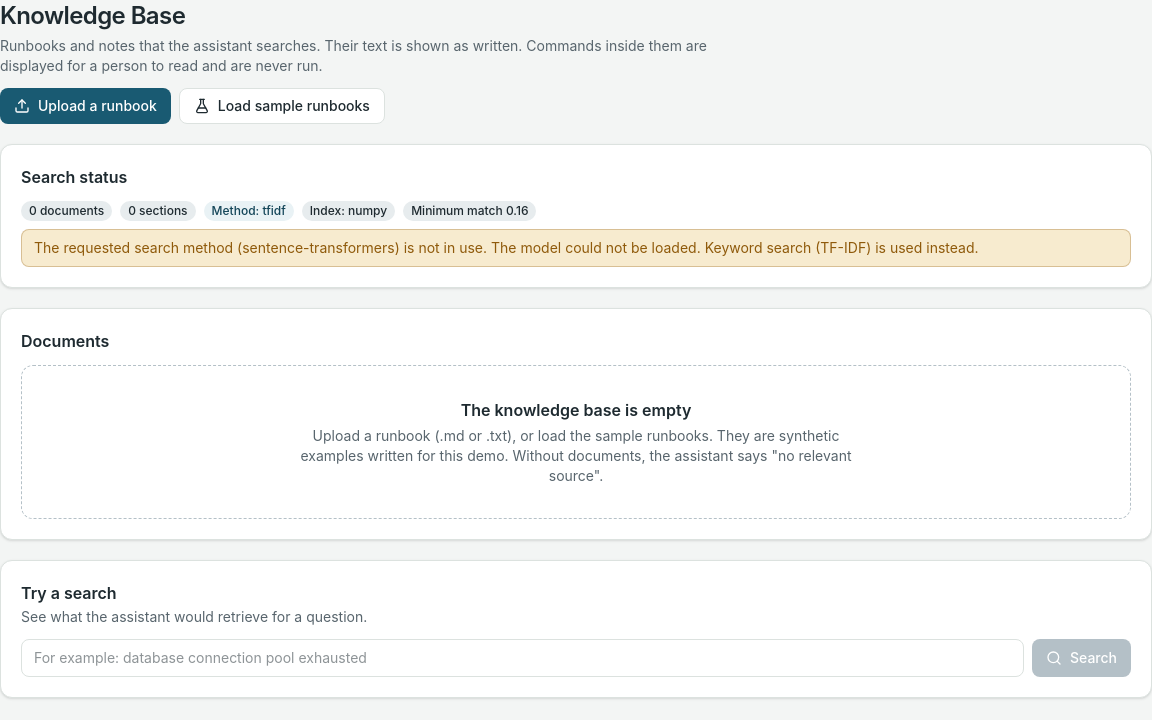
it: Knowledge Base › shows the no-relevant-source message instead of weak matches
In the field named "search the knowledge base": (522, 658) [21,639,1024,677], type "disk full"
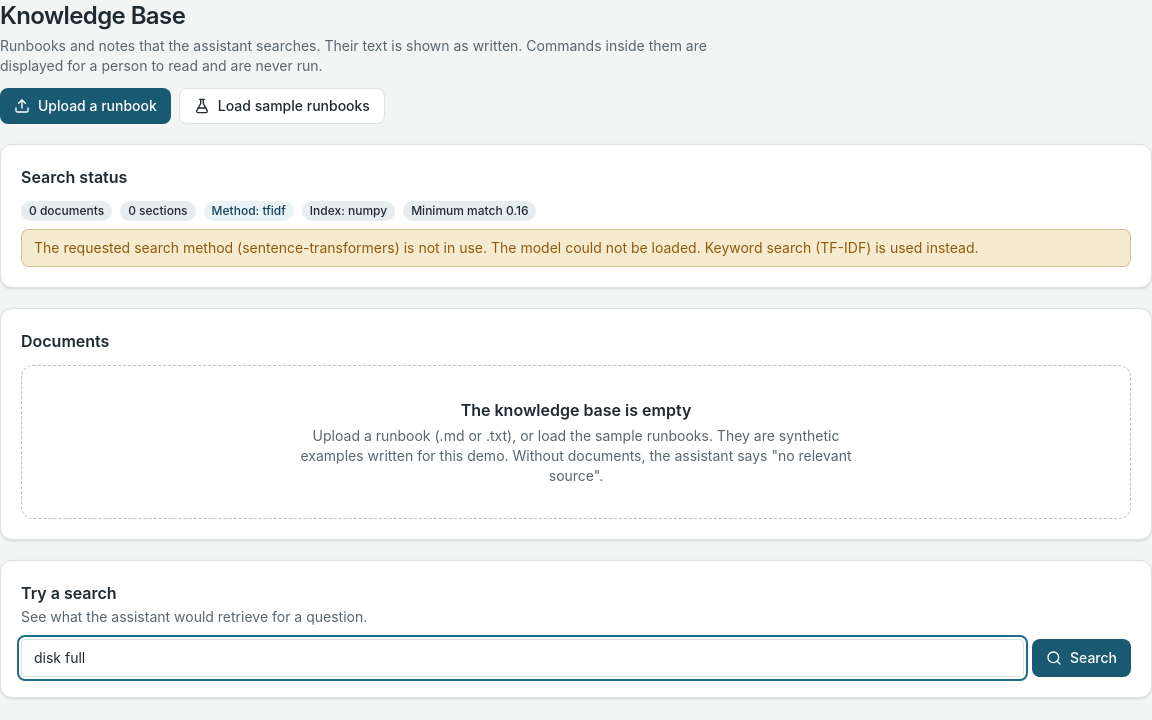
Click the button "Search": (1082, 658) [1032,639,1131,677]
(page scrolled)
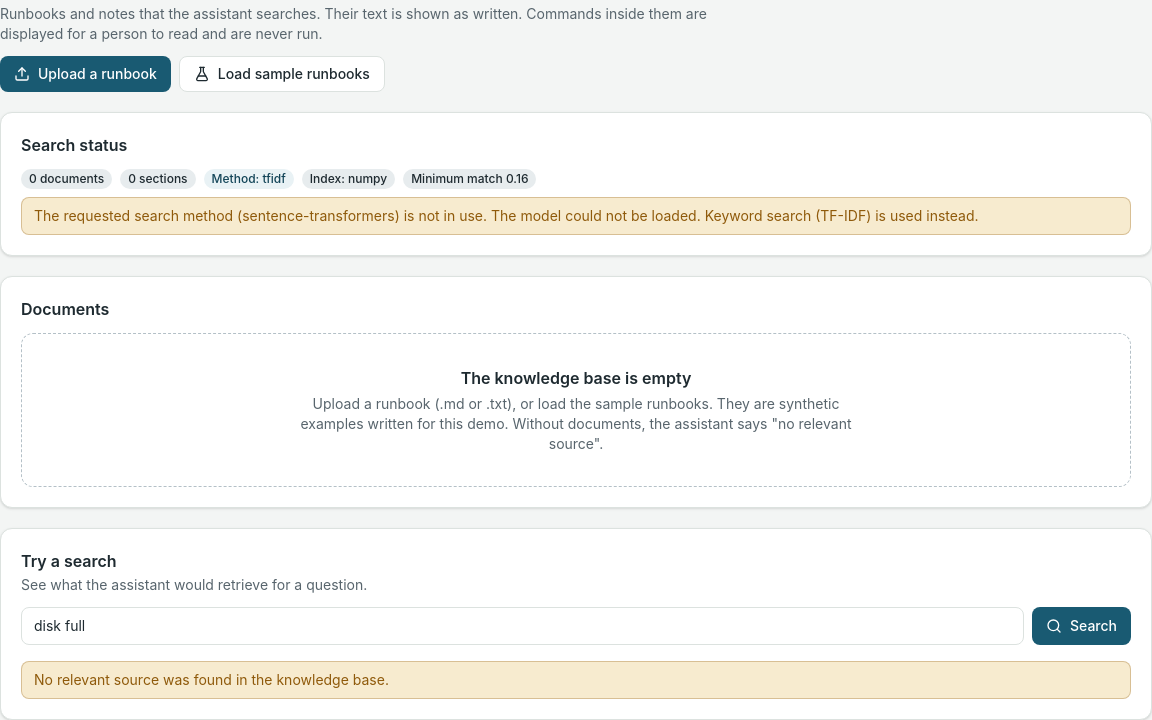
Result: the text "No relevant source was found in the knowledge base." is shown at [21,661,1131,699]
